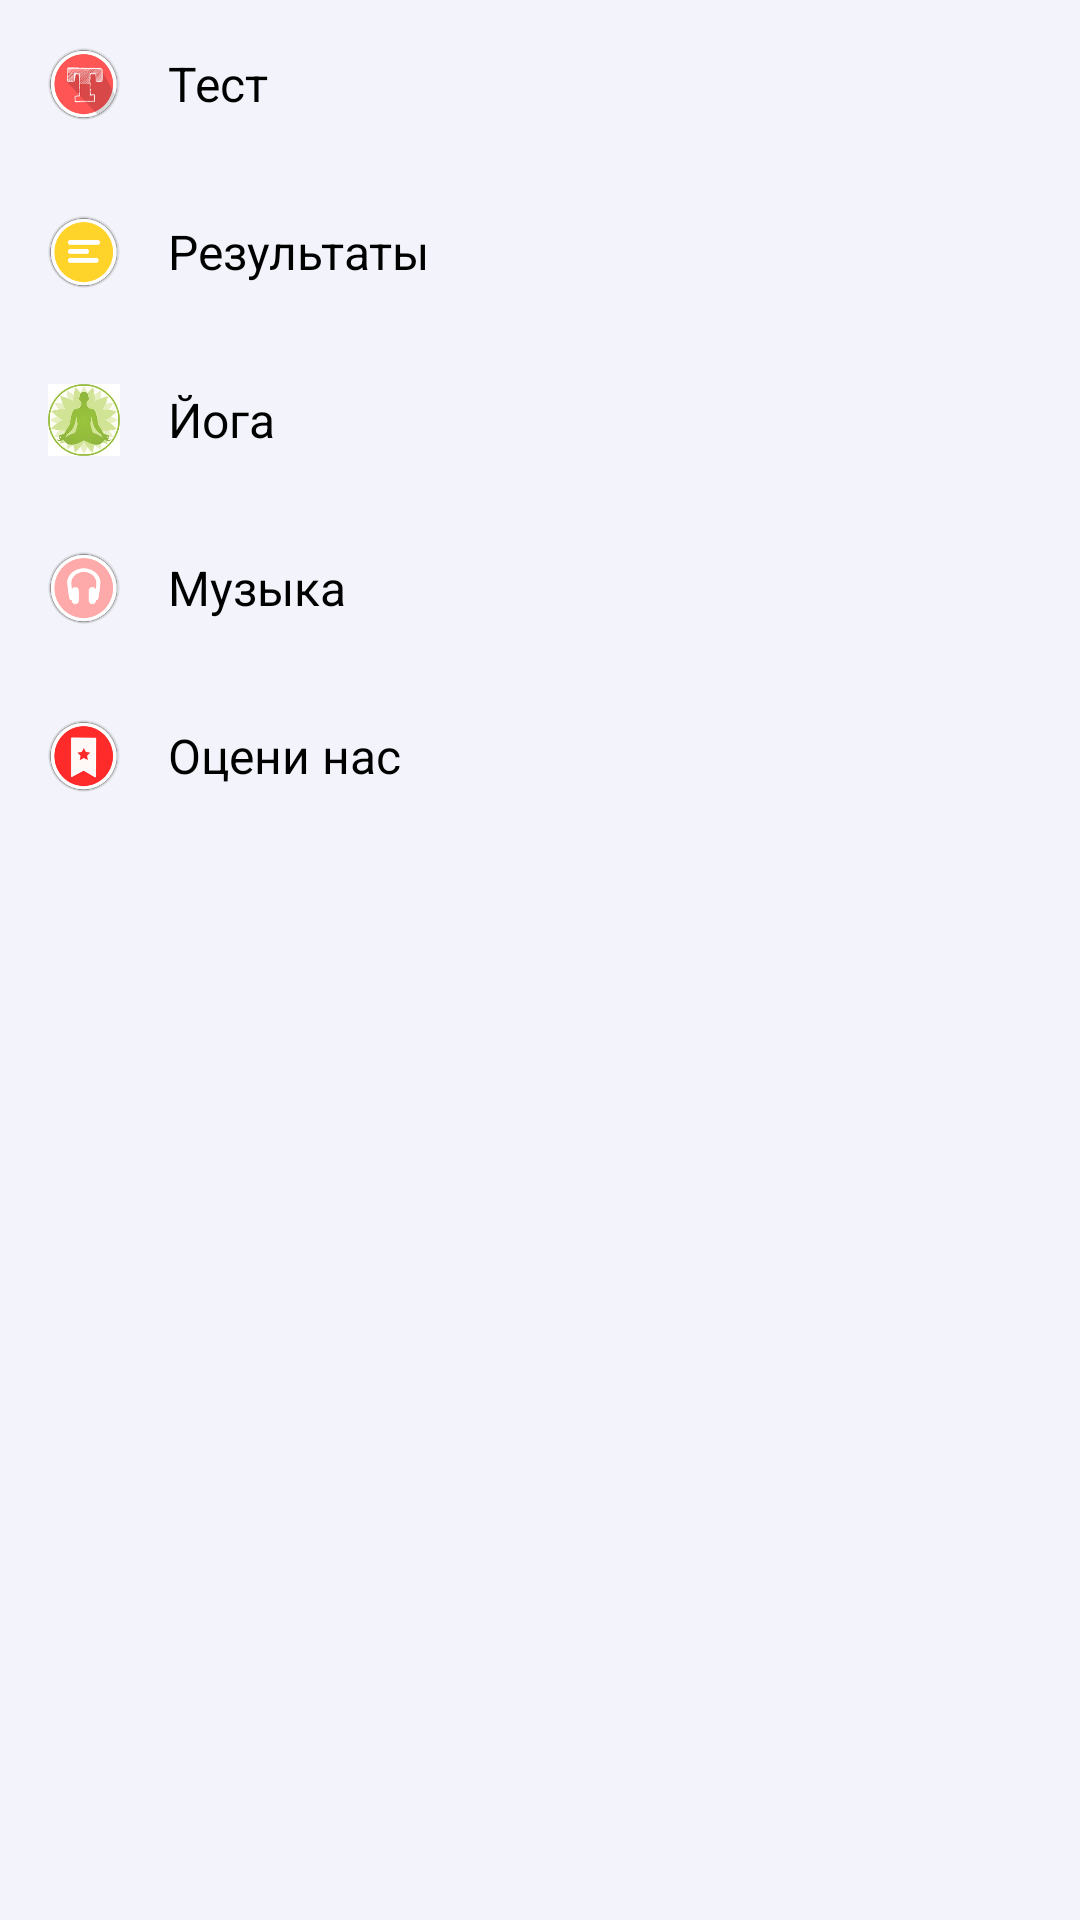

Named icons in this screenshot (1080 x 1920) and their centers, [x,y]:
music: [83,588]
rate: [84,756]
results: [83,252]
tests: [83,84]
yoga: [84,420]
